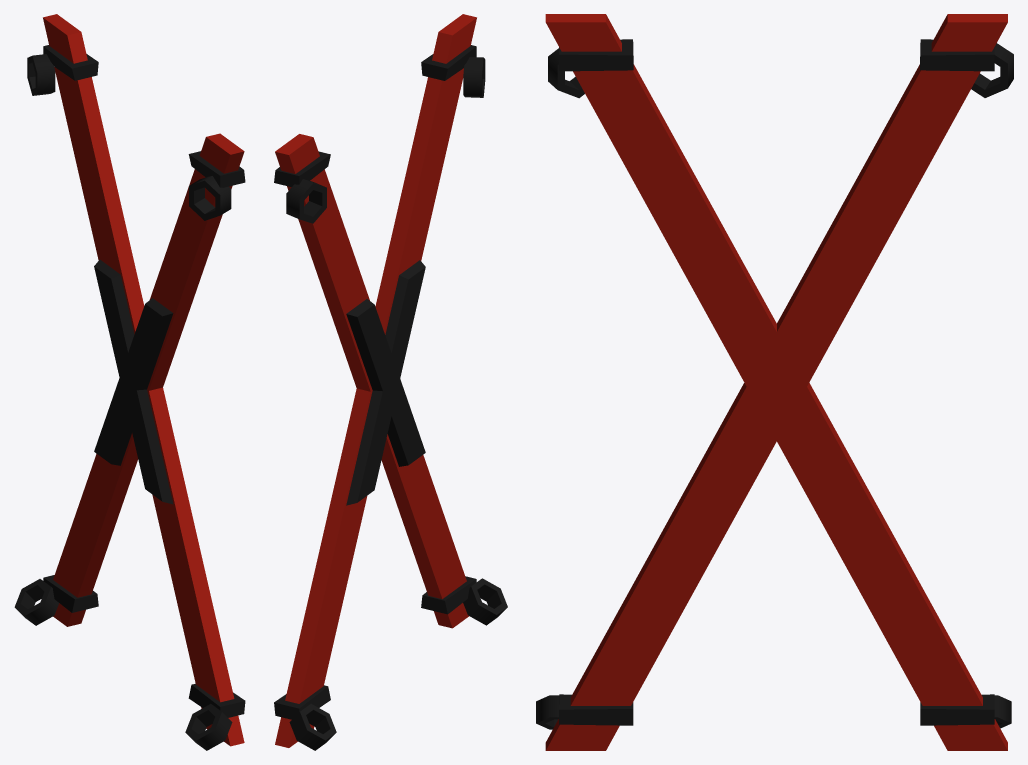
Rendered from SM_Cross_01.fbx.
3 views of the same model, side by side, from view 1: azimuth 30°, elevation 25°; view 2: azimuth 150°, elevation 25°; view 3: azimuth 270°, elevation 25° (orthographic). The views are drawn at different scales.
Parts seen in each view (by area): view 1: SM_Cross_01; view 2: SM_Cross_01; view 3: SM_Cross_01.
Boxes of the visible parts, left/top/right/bottom form: SM_Cross_01: left=14, top=14, right=245, bottom=750; SM_Cross_01: left=274, top=14, right=507, bottom=750; SM_Cross_01: left=536, top=14, right=1013, bottom=750.
Size of the model in its own units: 18.69 by 200 by 119.
